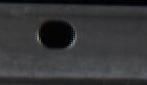holes: (35, 17, 78, 53)
